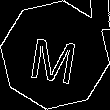M_N: (28, 26, 82, 84)
